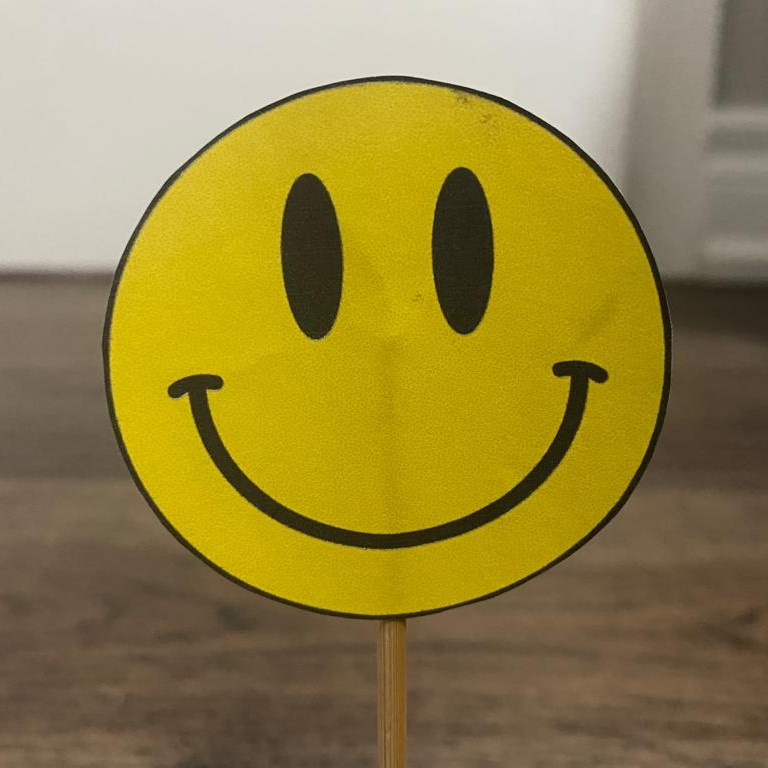Person: (93, 73, 684, 621)
